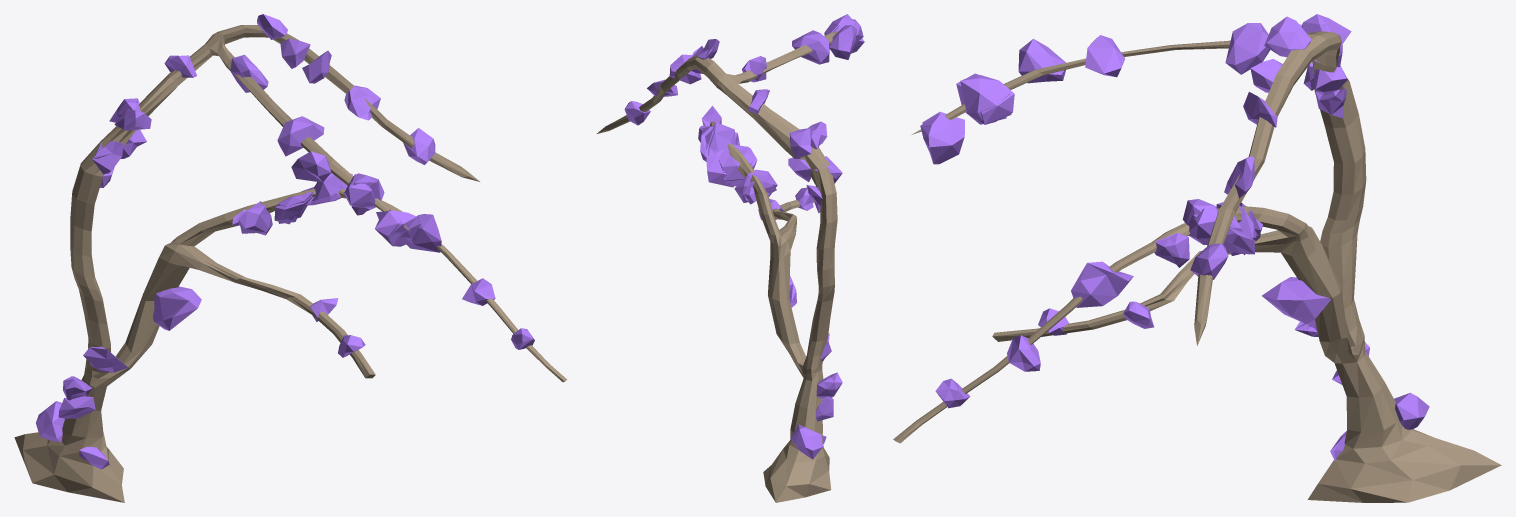
File: bizarretree5.obj
3 renders of one model, left to right at view 1: azimuth 30°, elevation 25°; view 2: azimuth 150°, elevation 25°; view 3: azimuth 270°, elevation 25°, orthographic. The views are drawn at different scales.
Visible parts, largest first — view 1: Windswept_Trunk_B_0, Windswept_Leaves_B_0; view 2: Windswept_Trunk_B_0, Windswept_Leaves_B_0; view 3: Windswept_Trunk_B_0, Windswept_Leaves_B_0.
Part boxes in pixels (left/top/right/bottom): Windswept_Trunk_B_0: left=14, top=25, right=567, bottom=502; Windswept_Leaves_B_0: left=36, top=14, right=534, bottom=469; Windswept_Trunk_B_0: left=597, top=31, right=838, bottom=502; Windswept_Leaves_B_0: left=624, top=14, right=864, bottom=459; Windswept_Trunk_B_0: left=893, top=31, right=1501, bottom=502; Windswept_Leaves_B_0: left=920, top=14, right=1429, bottom=460.
Size of the model in its own units: 11.58 by 14.07 by 13.86.
